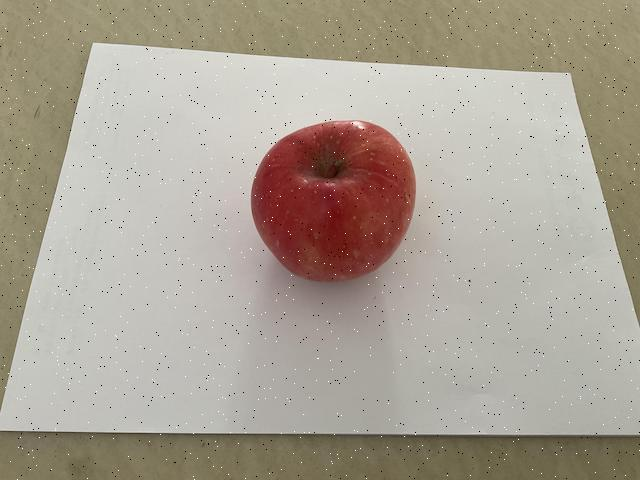apple: (243, 107, 424, 288)
